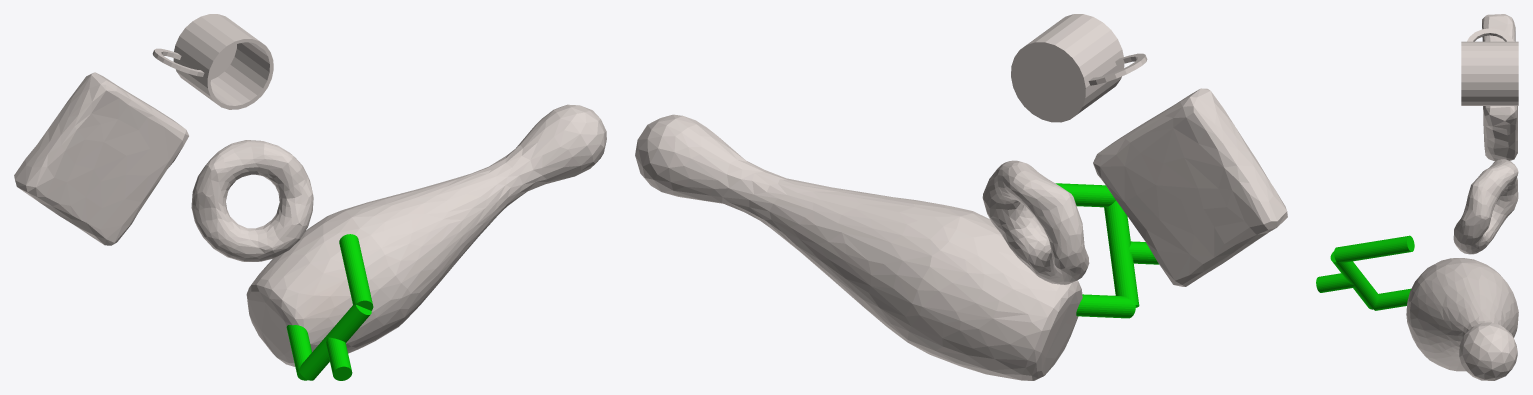
File: round_000_trial_002.obj
The picture shows the model from 3 angles, left to right: view 1: azimuth 30°, elevation 25°; view 2: azimuth 150°, elevation 25°; view 3: azimuth 270°, elevation 25°; orthographic projection. The views are drawn at different scales.
Visible parts, largest first — view 1: geometry_0, geometry_1; view 2: geometry_0, geometry_1; view 3: geometry_0, geometry_1.
Boxes of the visible parts, <box> form: geometry_0: <box>14,14,606,366</box>; geometry_1: <box>286,234,373,380</box>; geometry_0: <box>635,14,1287,380</box>; geometry_1: <box>1055,183,1158,318</box>; geometry_0: <box>1406,14,1518,380</box>; geometry_1: <box>1316,235,1414,310</box>.
Size of the model in its own units: 0.3398 by 0.1885 by 0.1234.
